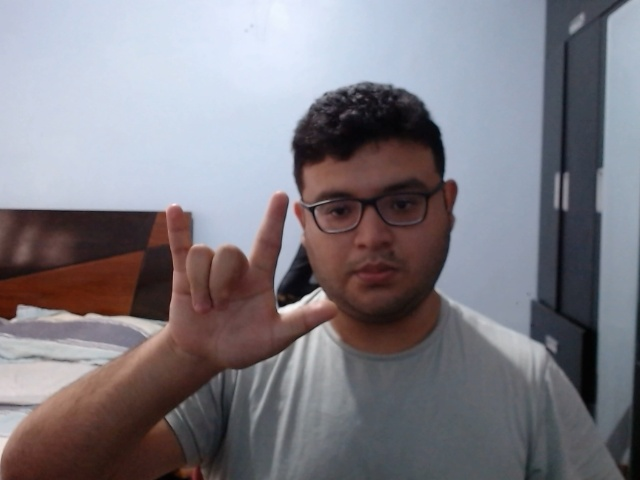I love you: (151, 189, 341, 371)
